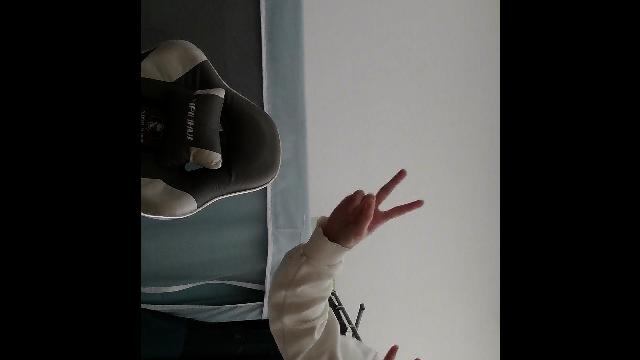yes: (324, 166, 424, 248)
